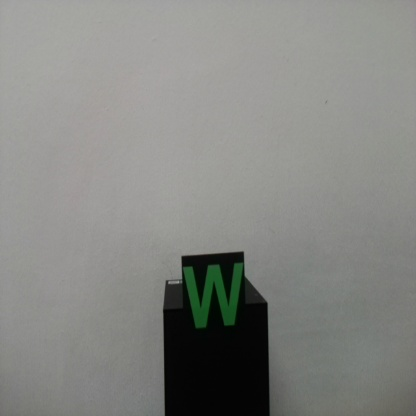id_12: (182, 254, 246, 342)
